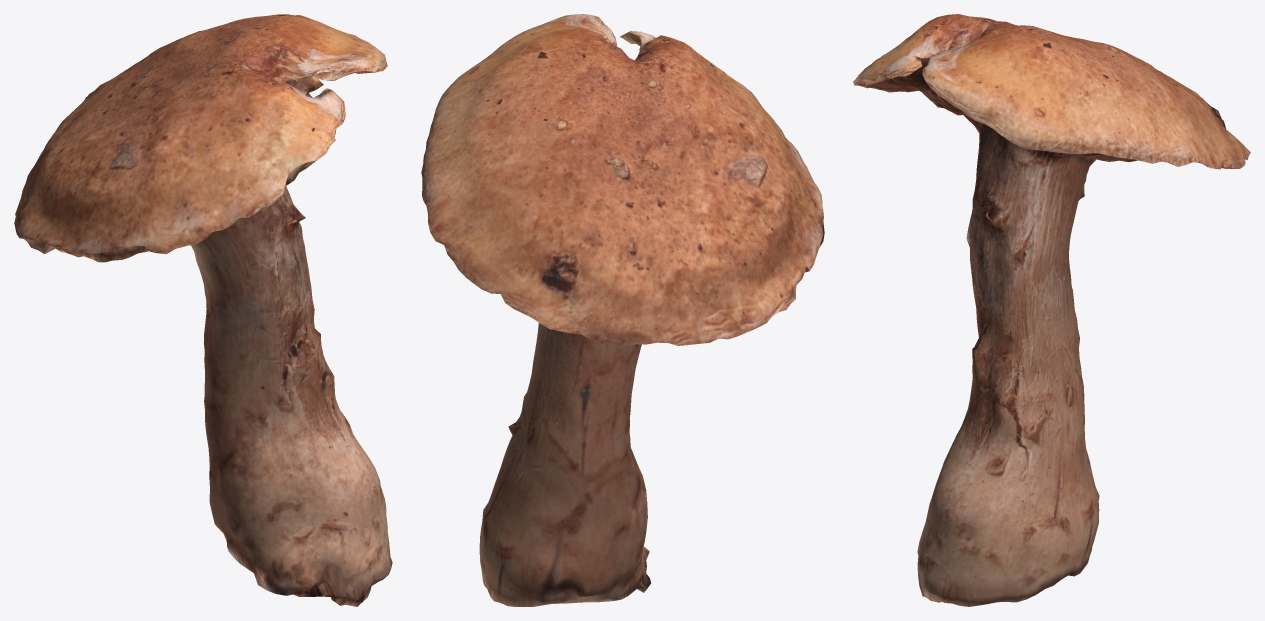
Rendered from mushroom.glb.
3 views of the same model, side by side, from view 1: azimuth 30°, elevation 25°; view 2: azimuth 150°, elevation 25°; view 3: azimuth 270°, elevation 25° (orthographic). The views are drawn at different scales.
Visible parts, largest first — view 1: Object_2; view 2: Object_2; view 3: Object_2.
Boxes of the visible parts, x1,y1,x2,y2 form: Object_2: [14, 14, 392, 606]; Object_2: [421, 14, 824, 606]; Object_2: [853, 14, 1250, 606].
Bounding box in the file's own units: 0.8168 × 1.3 × 0.8543.
Materials: 1 (1 with a texture image).
